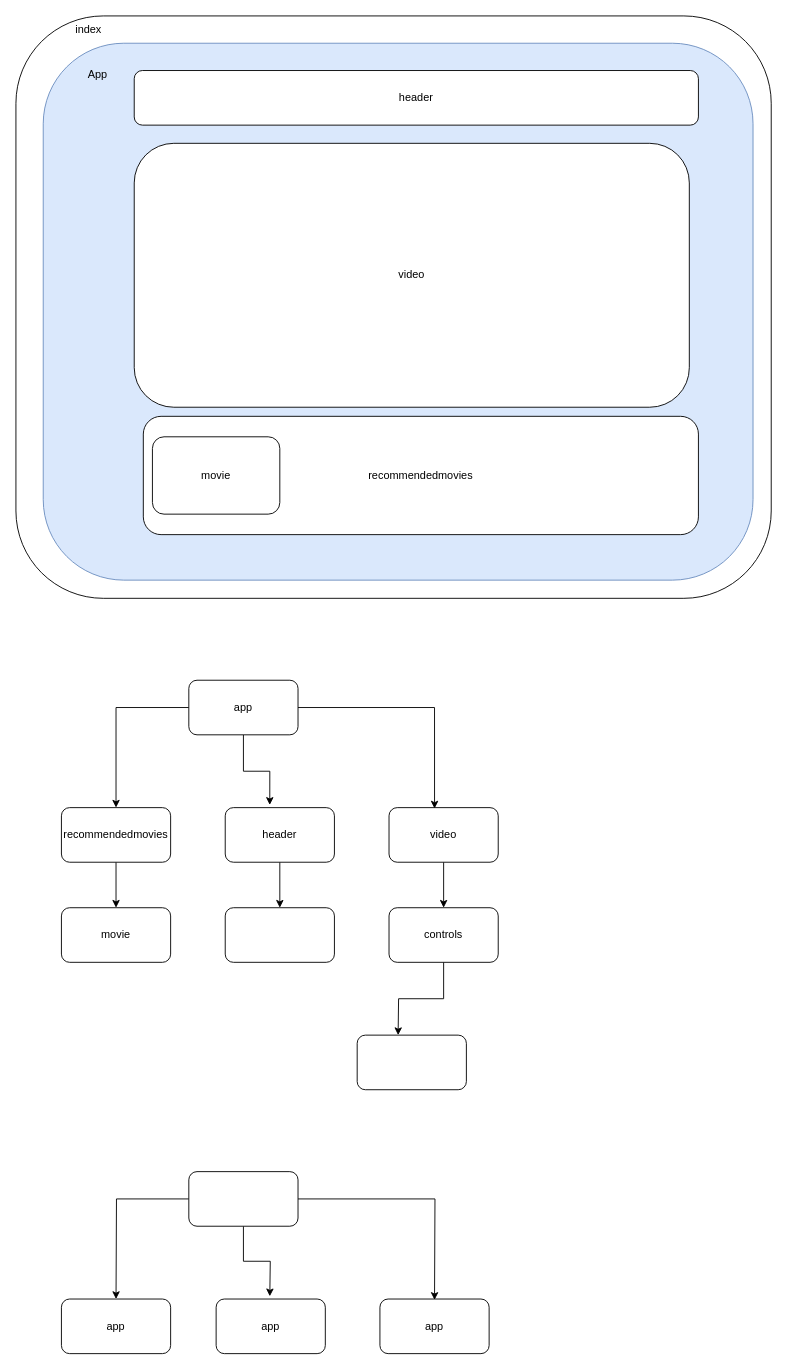
Some shapes in this 787 by 1370 pixel diagram are drawn without their labels. Each missing label, with the box of its shape:
filter: (224, 907, 334, 962)
link: (356, 1034, 466, 1090)
strictModr: (188, 1171, 298, 1226)
